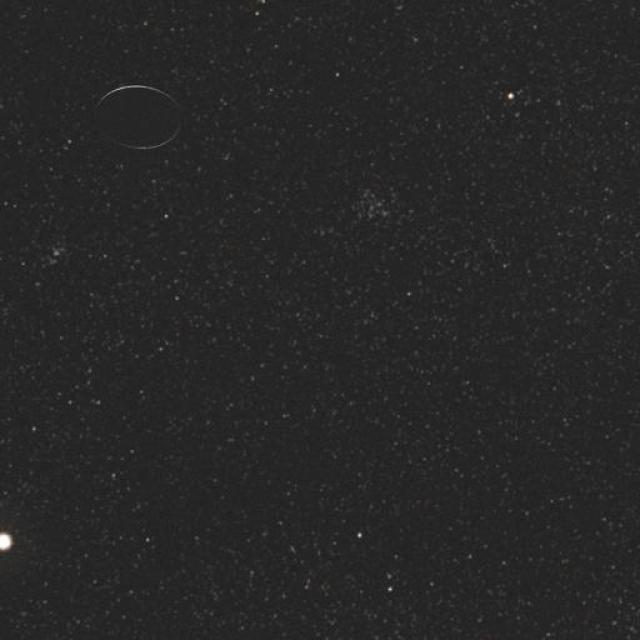debris: (79, 68, 194, 171)
